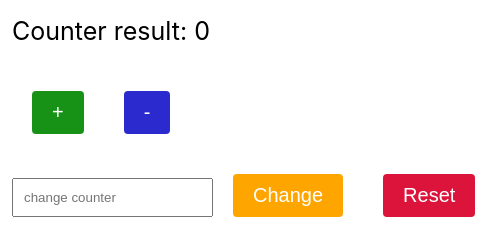
Test case: Counter component › should increment counter from 0 to 1 when default counter is 0
The width and height of the screenshot is (492, 234).
expect the text with test id "counter" reads "0": met, box [194,16,210,46]
Click the button with test id "add-btn": (58, 112) [32,91,84,134]
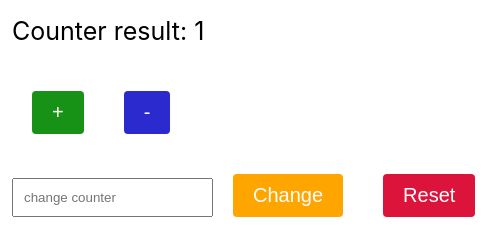
expect the element with test id "text" shows "Counter result:": met, box [12,16,187,46]
expect the text with test id "counter" reads "1": met, box [194,16,204,46]
